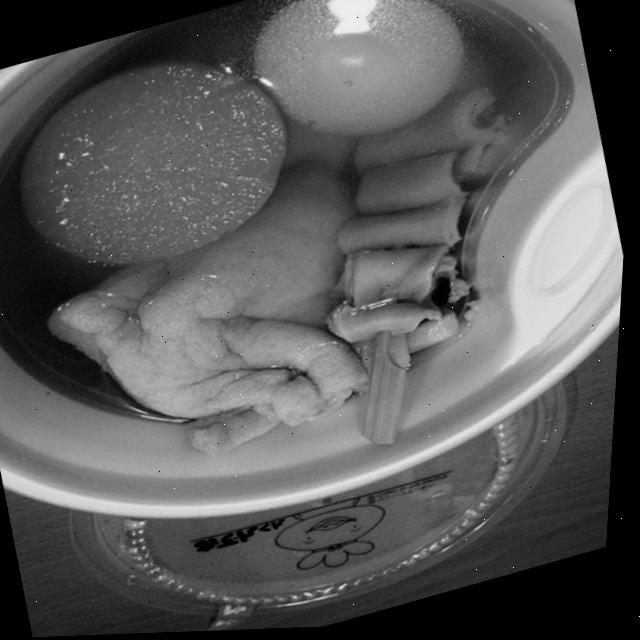汤锅炖物: (0, 0, 581, 511)
